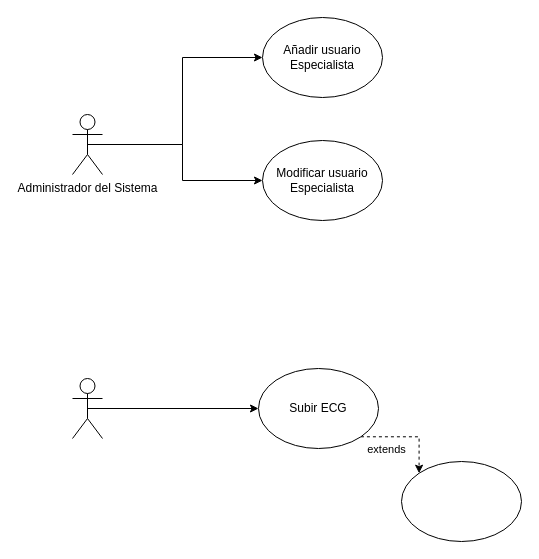
The diagram is 539 pixels wide and 559 high, and some of its shapes have lost their labels. Here are the shapes that lost their labels. From the top down, the box of each, then its label:
(72, 378, 102, 438): Dispositivo ECG
(400, 460, 522, 542): Analizar ECG
